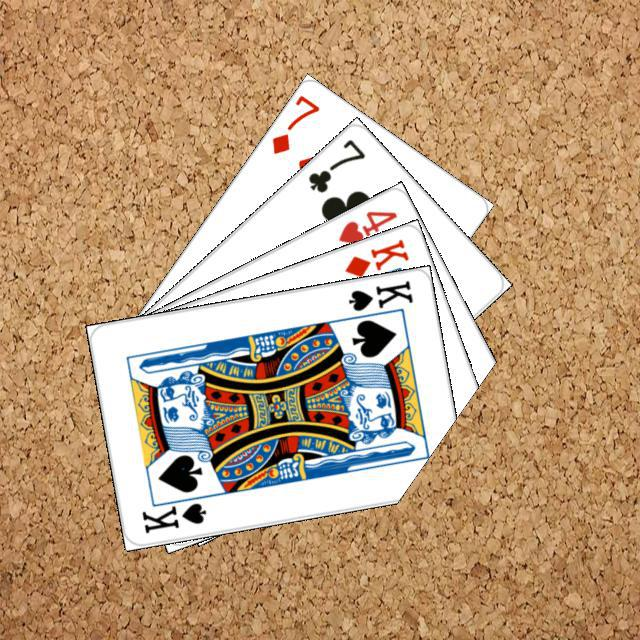4h: (333, 205, 399, 246)
7c: (303, 134, 367, 195)
7d: (266, 91, 322, 157)
Kd: (340, 234, 411, 279)
Ks: (136, 489, 211, 535), (343, 275, 415, 313)
